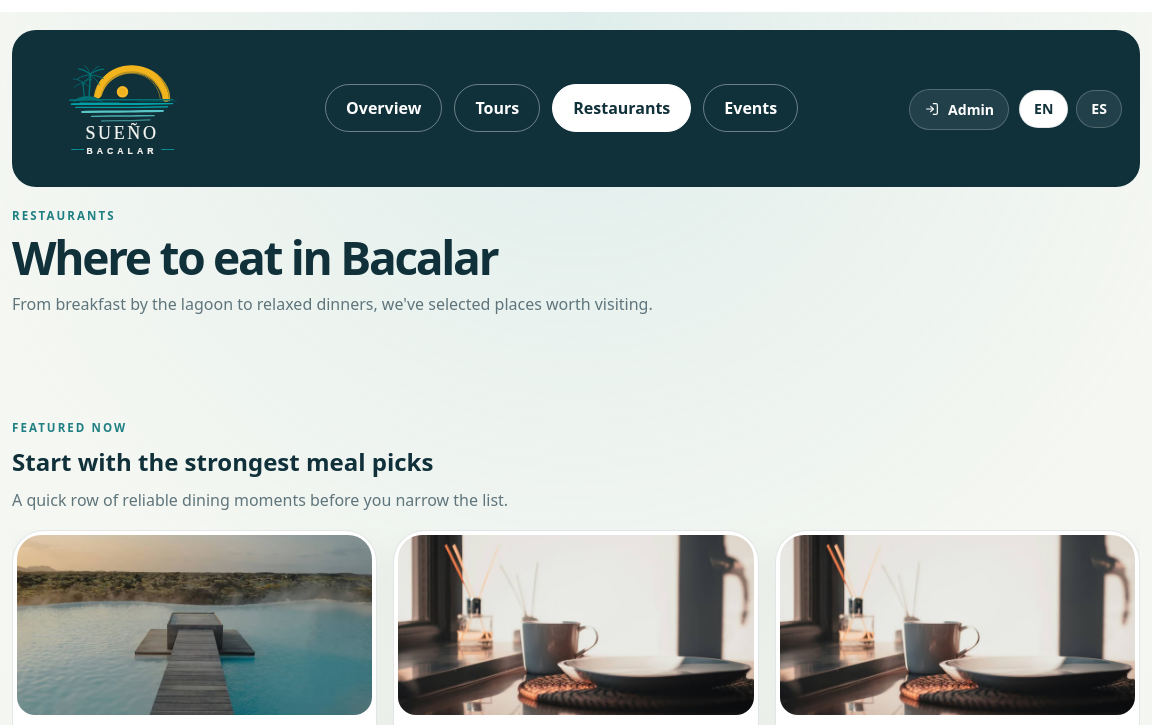
Scenario: RestaurantsPage › renders localized restaurants and localized filter controls after language change
Click the button "ES".
click(1099, 109)  # box [1076,90,1122,128]
(page scrolled)
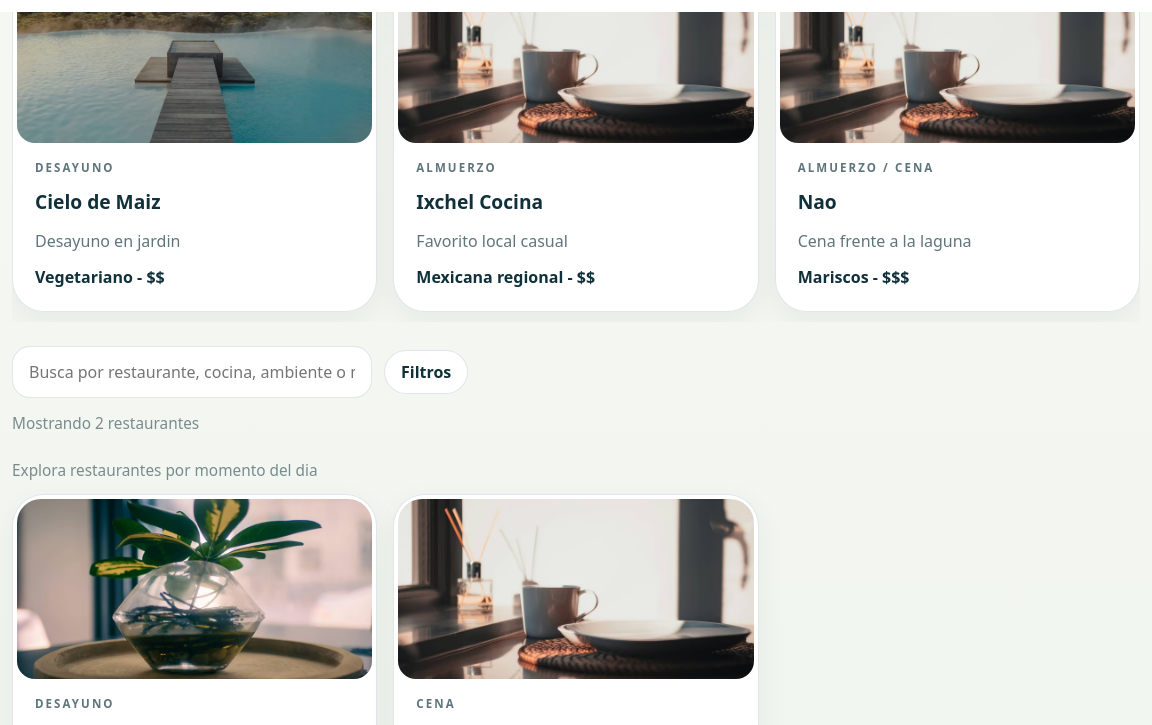
Now the field named "Buscar restaurantes" is shown, box [12,346,372,398]
Now the button "Filtros" is shown, box [384,350,468,394]
